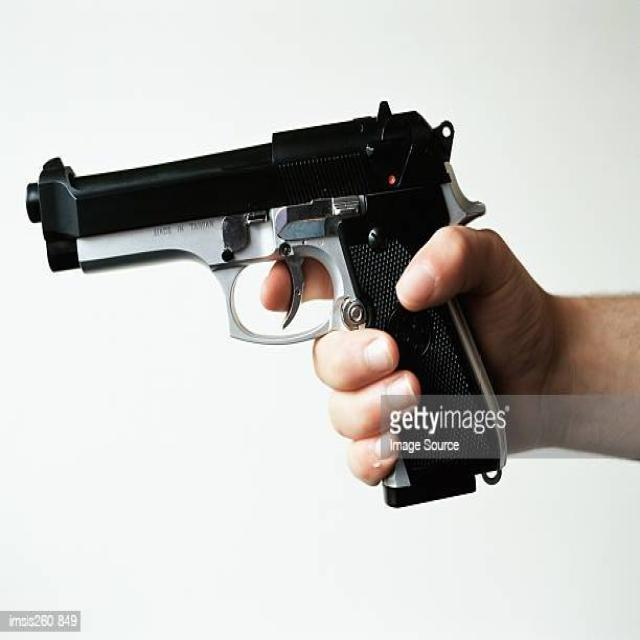HandGun: (27, 104, 508, 511)
